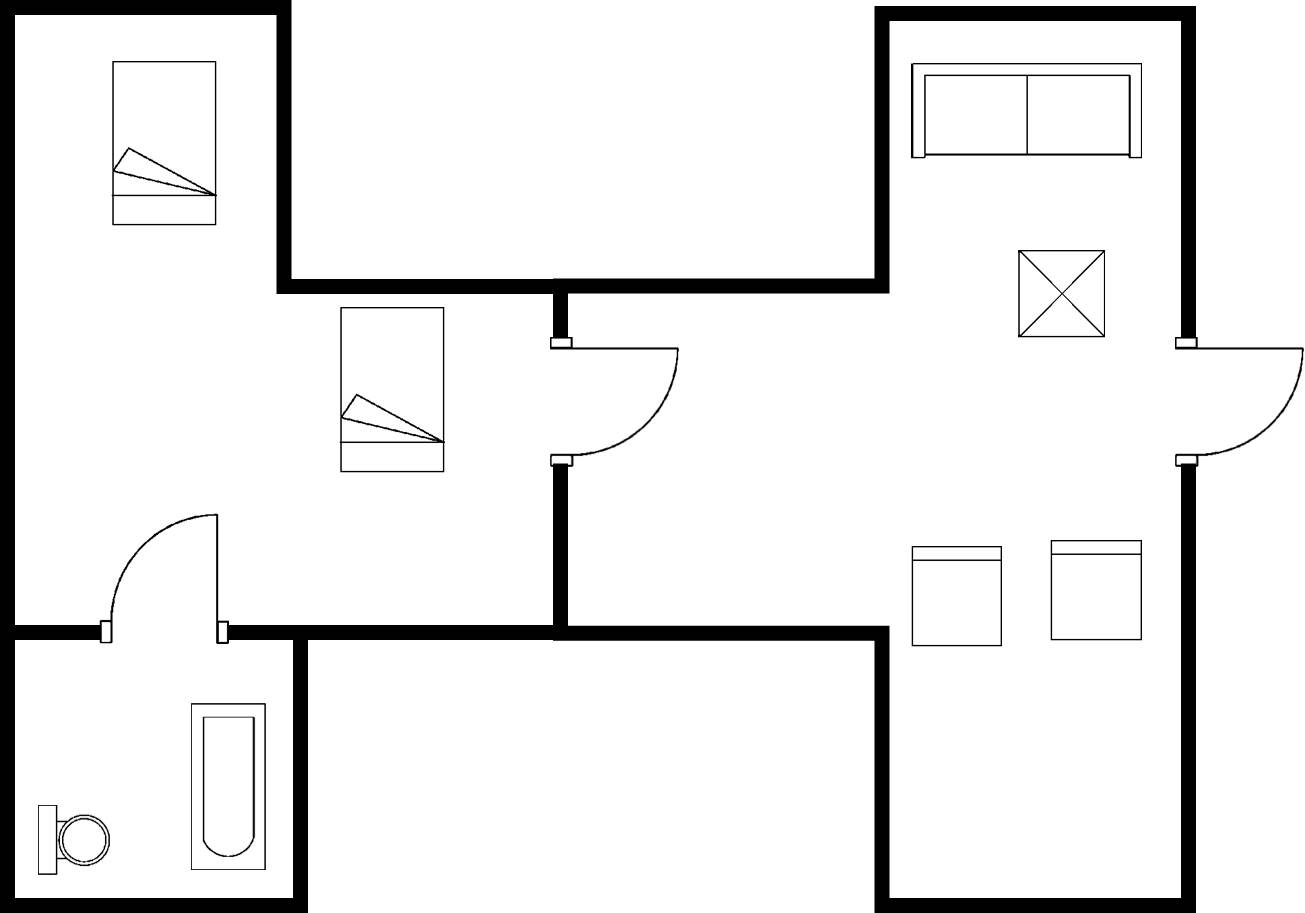bed: (105, 54, 225, 234), (334, 301, 452, 479)
coffee_table: (1012, 245, 1113, 345)
large_sink: (29, 798, 114, 889)
large_sofa: (904, 55, 1151, 168)
small_sofa: (1043, 530, 1150, 647), (905, 540, 1011, 654)
tub: (185, 697, 276, 879)
